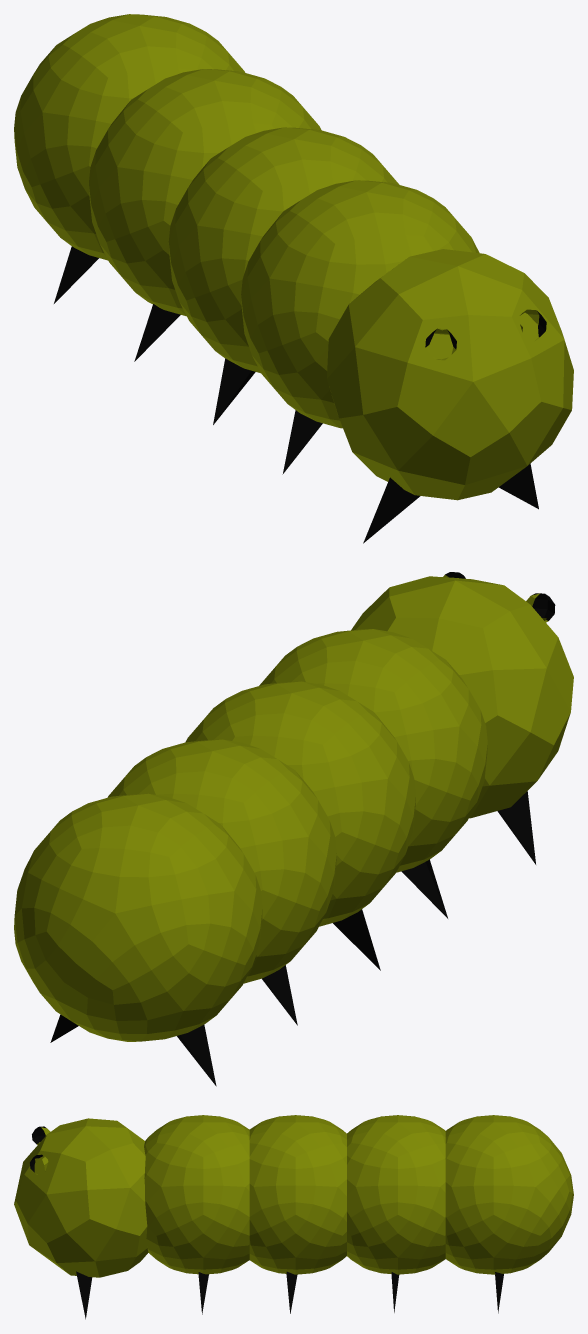
Rendered from NewCat.fbx.
3 views of the same model, one above another, from view 1: azimuth 30°, elevation 25°; view 2: azimuth 150°, elevation 25°; view 3: azimuth 270°, elevation 25° (orthographic). The views are drawn at different scales.
Visible parts, largest first — view 1: Sphere.001, Icosphere, Icosphere.003, Icosphere.002, Cone.006; view 2: Icosphere, Sphere.001, Icosphere.002, Icosphere.003, Cone.006; view 3: Icosphere, Sphere.001, Icosphere.003, Icosphere.002, Cone.006.
Part boxes in pixels (x1,y1,x2,y2): Sphere.001: (327,249,573,543); Icosphere: (14,14,321,316); Icosphere.003: (241,180,479,474); Icosphere.002: (168,127,399,424); Cone.006: (54,246,180,361); Icosphere: (14,739,336,1041); Sphere.001: (351,572,573,864); Icosphere.002: (185,681,415,970); Icosphere.003: (259,629,487,918); Cone.006: (50,965,297,1086); Icosphere: (347,1115,573,1274); Sphere.001: (14,1118,148,1319); Icosphere.003: (144,1115,249,1314); Icosphere.002: (249,1115,346,1313); Cone.006: (391,1272,503,1313).
Size of the model in its own units: 1.75 by 2.07 by 6.09.
